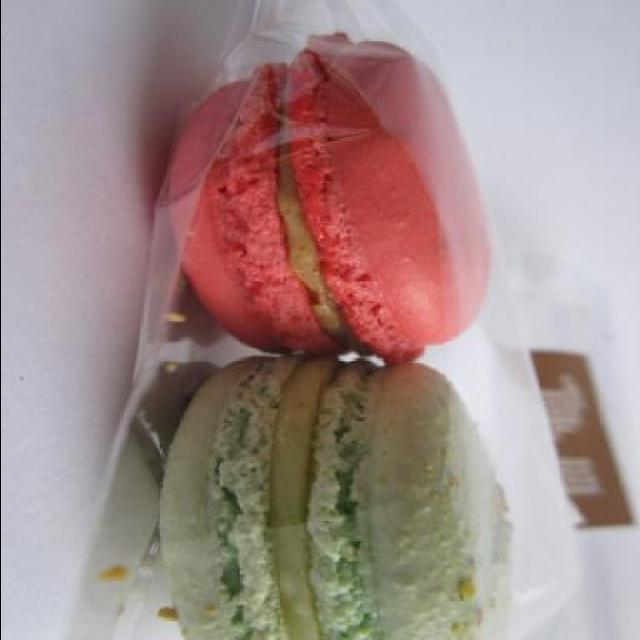Macaron: (130, 32, 514, 638)
